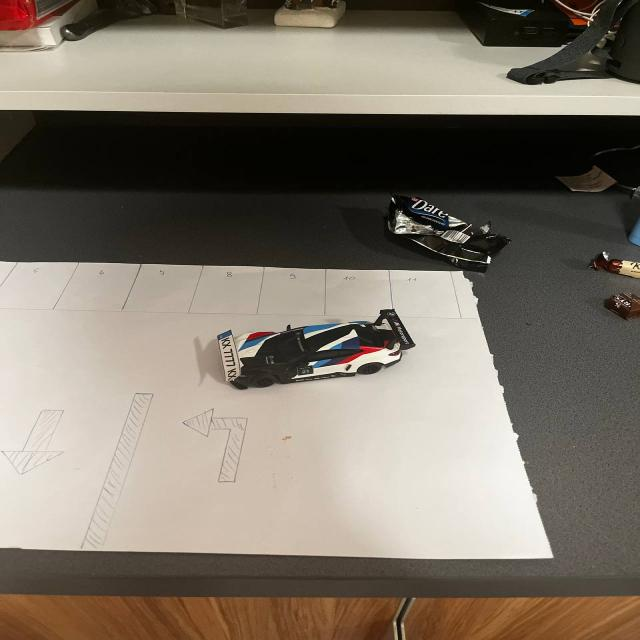KX 7777 KX: (213, 325, 247, 383)
